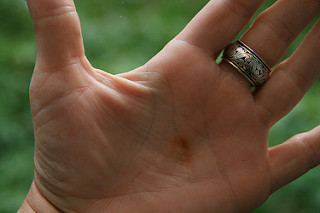palm: (47, 68, 268, 204)
